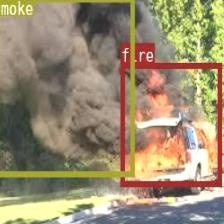fire: (120, 61, 221, 185)
smoke: (0, 0, 134, 175)
